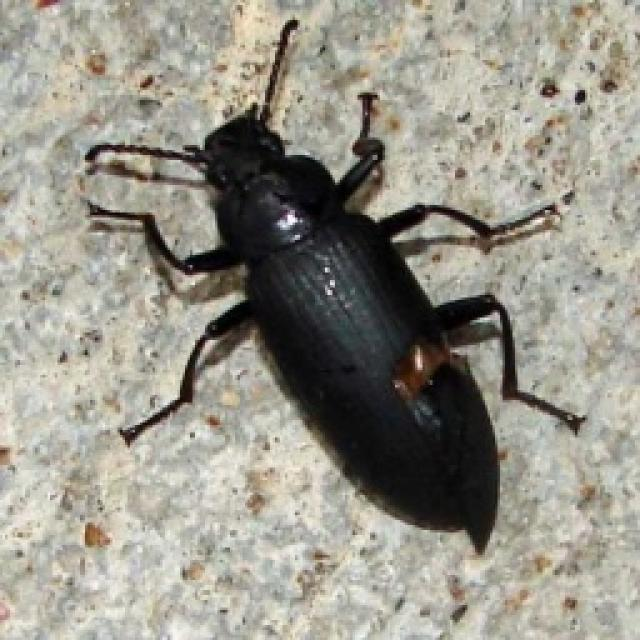cockroach: (78, 15, 591, 557)
